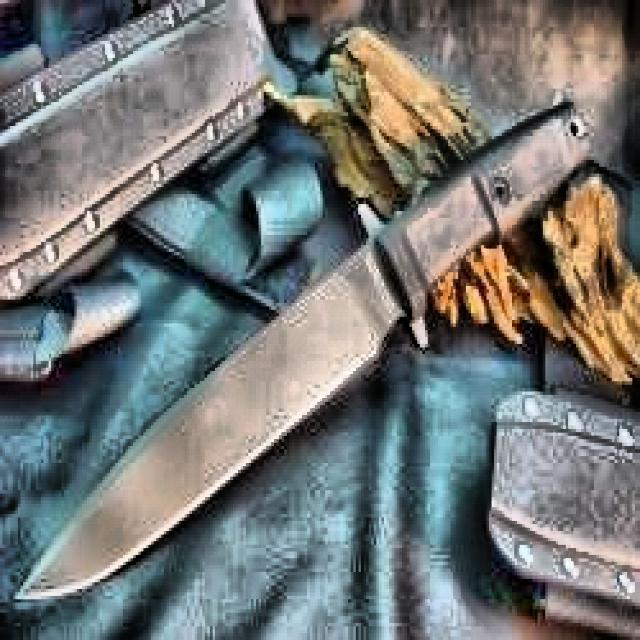knife: (20, 97, 586, 604)
